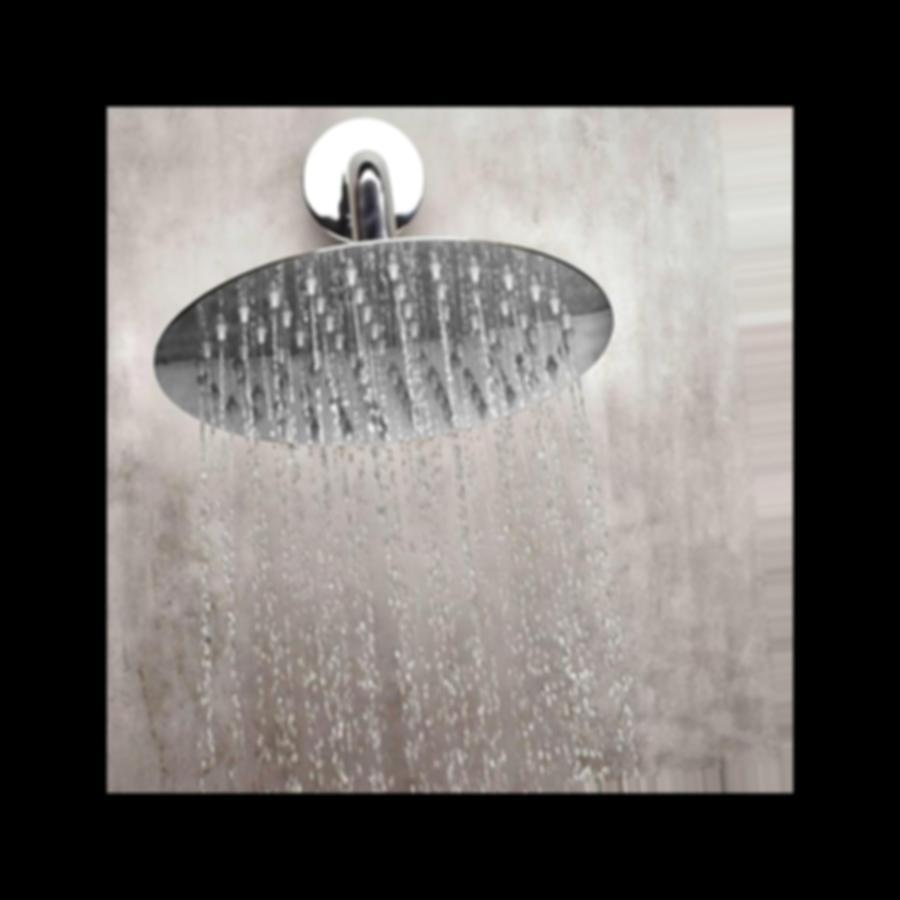Ducha: (107, 107, 793, 793)
